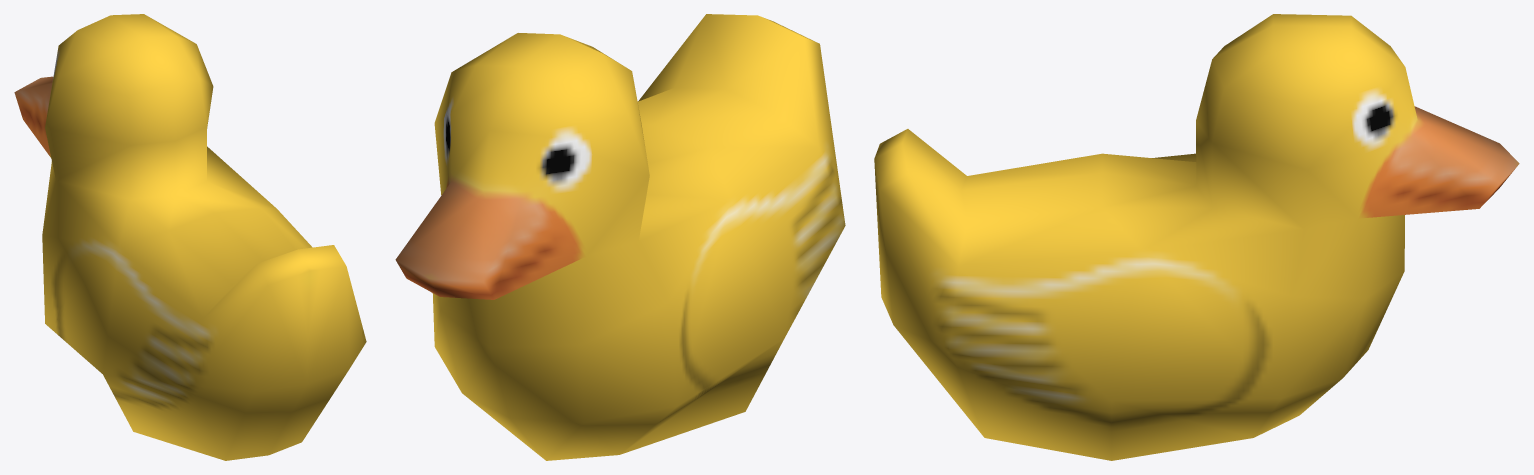
The model's file is duck.FBX.
3 views of the same model, side by side, from view 1: azimuth 30°, elevation 25°; view 2: azimuth 150°, elevation 25°; view 3: azimuth 270°, elevation 25° (orthographic). The views are drawn at different scales.
Parts seen in each view (by area): view 1: Untitled.003; view 2: Untitled.003; view 3: Untitled.003.
Part boxes in pixels (box(x1,y1,x2,y2)): Untitled.003: box(14, 14, 366, 460); Untitled.003: box(395, 14, 845, 460); Untitled.003: box(874, 14, 1519, 460).
Size of the model in its own units: 0.1099 by 0.1584 by 0.2373.
